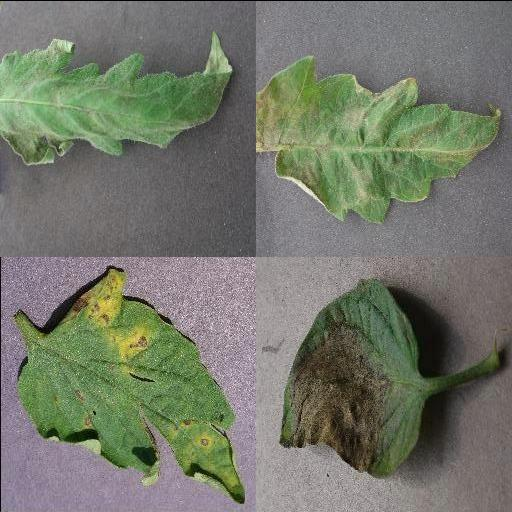Late Blight: (256, 53, 503, 227), (0, 28, 234, 164), (277, 276, 427, 478)
Septoria: (17, 268, 247, 505)
